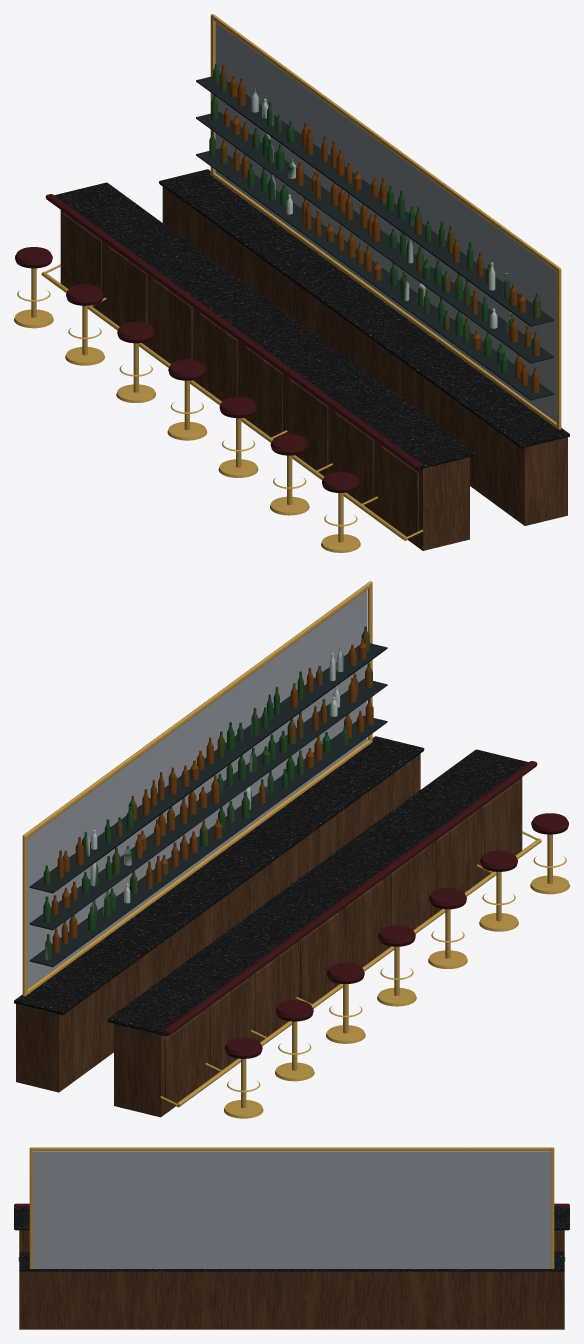
File: SM_CR_Bar.glb
3 views of the same model, one above another, from view 1: azimuth 30°, elevation 25°; view 2: azimuth 150°, elevation 25°; view 3: azimuth 270°, elevation 25° (orthographic). The views are drawn at different scales.
Parts seen in each view (by area): view 1: SM_CR_Bar; view 2: SM_CR_Bar; view 3: SM_CR_Bar.
Boxes of the visible parts, x1,y1,x2,y2 form: SM_CR_Bar: (14, 14, 569, 552); SM_CR_Bar: (14, 581, 569, 1118); SM_CR_Bar: (14, 1147, 569, 1329).
Size of the model in its own units: 2.8 by 2.95 by 8.16.
Materials: 8 (8 with a texture image).
